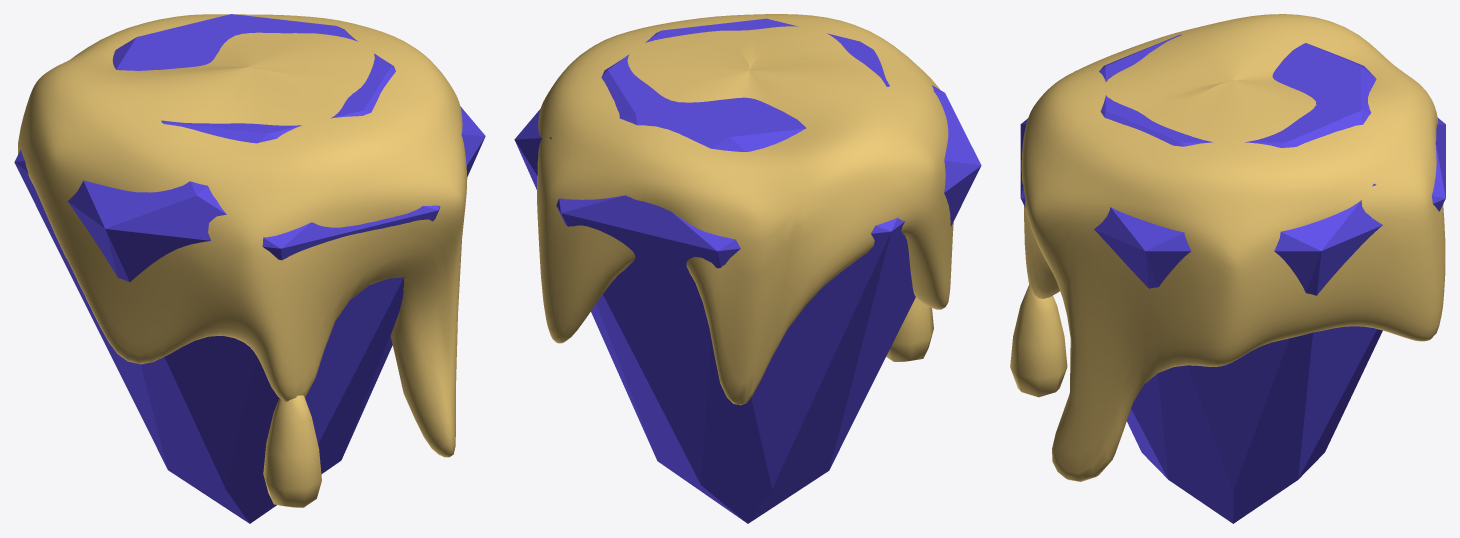
Rendered from elmasMasa.fbx.
3 views of the same model, side by side, from view 1: azimuth 30°, elevation 25°; view 2: azimuth 150°, elevation 25°; view 3: azimuth 270°, elevation 25° (orthographic). The views are drawn at different scales.
Visible parts, largest first — view 1: elmasMasa; view 2: elmasMasa; view 3: elmasMasa.
Boxes of the visible parts, left/top/right/bottom form: elmasMasa: left=14, top=14, right=485, bottom=523; elmasMasa: left=514, top=14, right=981, bottom=523; elmasMasa: left=1010, top=14, right=1445, bottom=523.
Size of the model in its own units: 195 by 214 by 189.
